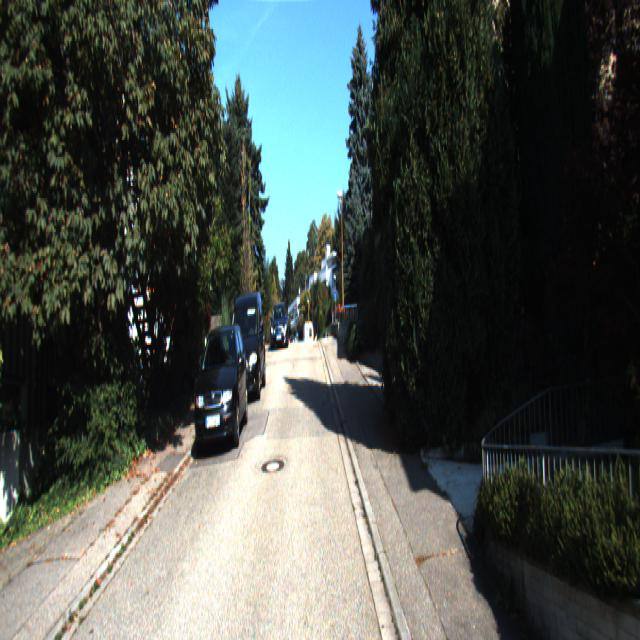Car: (193, 324, 249, 456), (227, 290, 267, 406), (270, 300, 289, 350)
